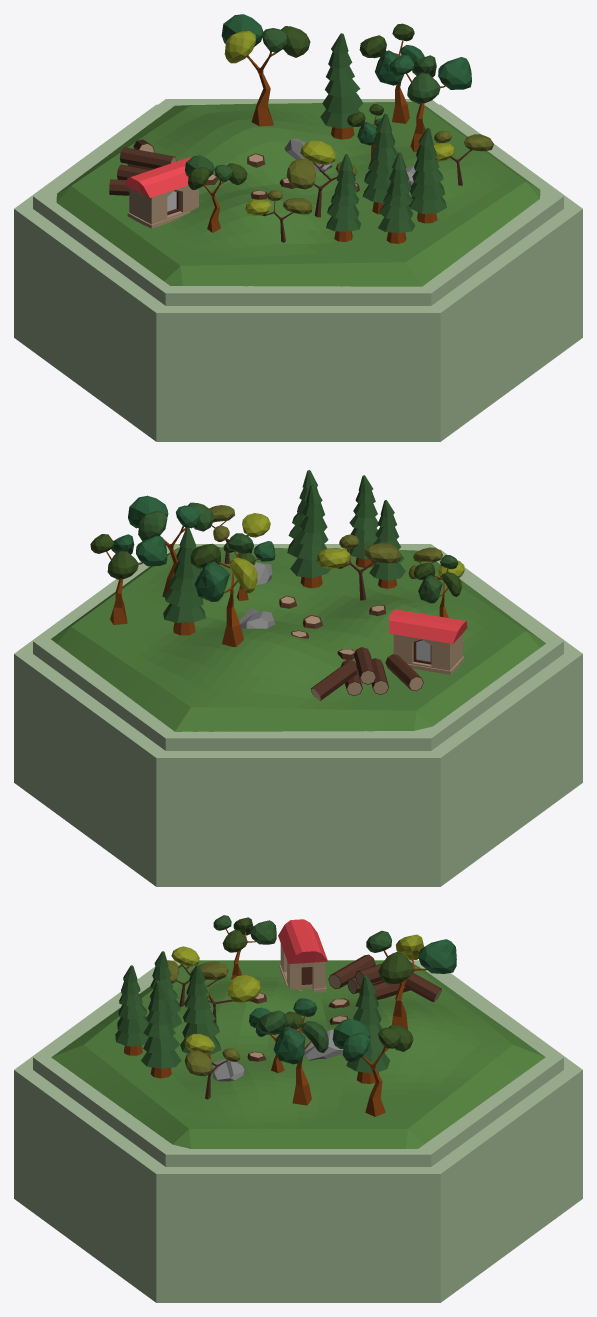
Rendered from fbx_forest.fbx.
The picture shows the model from 3 angles, top to bottom: view 1: azimuth 30°, elevation 25°; view 2: azimuth 150°, elevation 25°; view 3: azimuth 270°, elevation 25°; orthographic projection.
Visible parts, largest first — view 1: Forest Base, Trees, Forest House, Tree, Tree.003, Tree 2.003, Tree 2, Tree.002, Tree 2.004, Tree 2.002, Tree 2.001, Tree 3 (+5 smaller); view 2: Forest Base, Trees, Forest House, Tree, Tree.002, Tree 2.003, Tree.003, Tree 2.002, Tree 3, Tree 2.004, Tree.001, Tree 2.001 (+8 smaller); view 3: Forest Base, Trees, Tree, Tree.003, Forest House, Tree.002, Tree 2, Tree 2.003, Tree 2.004, Tree 2.002, Tree.001, Tree 3.001 (+8 smaller).
Boxes of the visible parts, box(x1,y1,x2,y2) form: Forest Base: box(14, 99, 582, 441); Trees: box(56, 101, 540, 286); Forest House: box(125, 157, 198, 228); Tree: box(221, 14, 310, 126); Tree.003: box(389, 54, 471, 152); Tree 2.003: box(320, 33, 362, 139); Tree 2: box(409, 128, 446, 223); Tree.002: box(359, 23, 424, 123); Tree 2.004: box(378, 152, 415, 243); Tree 2.002: box(362, 113, 397, 214); Tree 2.001: box(326, 154, 360, 241); Tree 3: box(286, 140, 356, 217); Forest Base: box(14, 544, 582, 886); Trees: box(51, 546, 545, 731); Forest House: box(389, 609, 467, 674); Tree: box(190, 533, 257, 646); Tree.002: box(90, 534, 167, 624); Tree 2.003: box(163, 528, 205, 635); Tree.003: box(128, 495, 213, 597); Tree 2.002: box(290, 484, 330, 588); Tree 3: box(316, 534, 400, 600); Tree 2.004: box(346, 475, 378, 567); Tree.001: box(413, 555, 461, 617); Tree 2.001: box(369, 500, 405, 588); Forest Base: box(14, 960, 582, 1302); Trees: box(51, 960, 545, 1148); Tree: box(366, 930, 456, 1029); Tree.003: box(258, 998, 328, 1105); Forest House: box(278, 919, 327, 992); Tree.002: box(332, 1018, 413, 1116); Tree 2: box(141, 981, 181, 1078); Tree 2.003: box(346, 975, 389, 1083); Tree 2.004: box(115, 965, 149, 1055); Tree 2.002: box(180, 964, 221, 1059); Tree.001: box(213, 915, 276, 979); Tree 3.001: box(184, 1033, 240, 1099).
Size of the model in its own units: 173 by 106 by 200.
